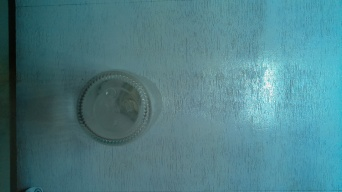f: (72, 66, 168, 158)
